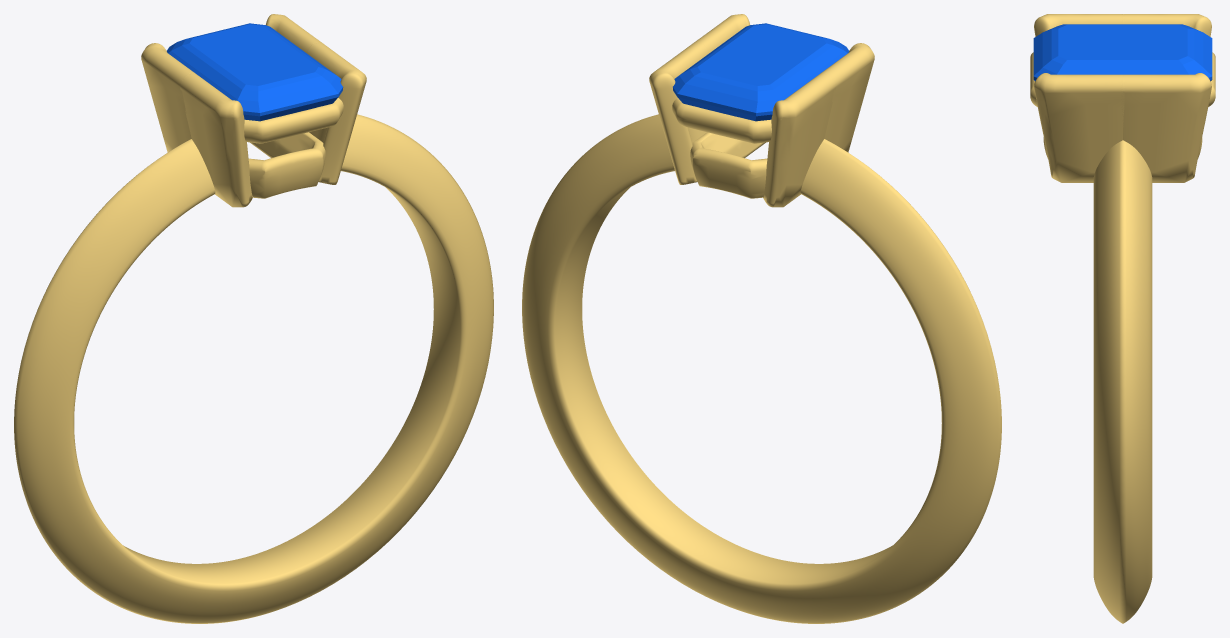
The model's file is bluesapphire-emerald-yellowgold-halfmoonbezel-knifeedge-solitaire.glb.
3 renders of one model, left to right at view 1: azimuth 30°, elevation 25°; view 2: azimuth 150°, elevation 25°; view 3: azimuth 270°, elevation 25°, orthographic.
Parts seen in each view (by area): view 1: metal.002, stone; view 2: metal.002, stone; view 3: metal.002, stone.
Part boxes in pixels (<box>): metal.002: <box>14,14,493,623</box>; stone: <box>167,23,343,121</box>; metal.002: <box>522,14,1001,623</box>; stone: <box>673,23,848,121</box>; metal.002: <box>1030,14,1215,623</box>; stone: <box>1033,24,1212,81</box>.
Bounding box in the file's own units: 20.5 × 22.94 × 6.94.
